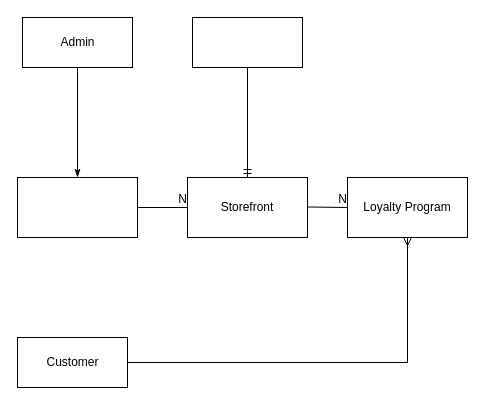
Some shapes in this 485 by 405 pixel diagram are drawn without their labels. Each missing label, with the centre of its shape:
"Manager" belongs at pixel 247 42.
"merchant" belongs at pixel 77 207.
